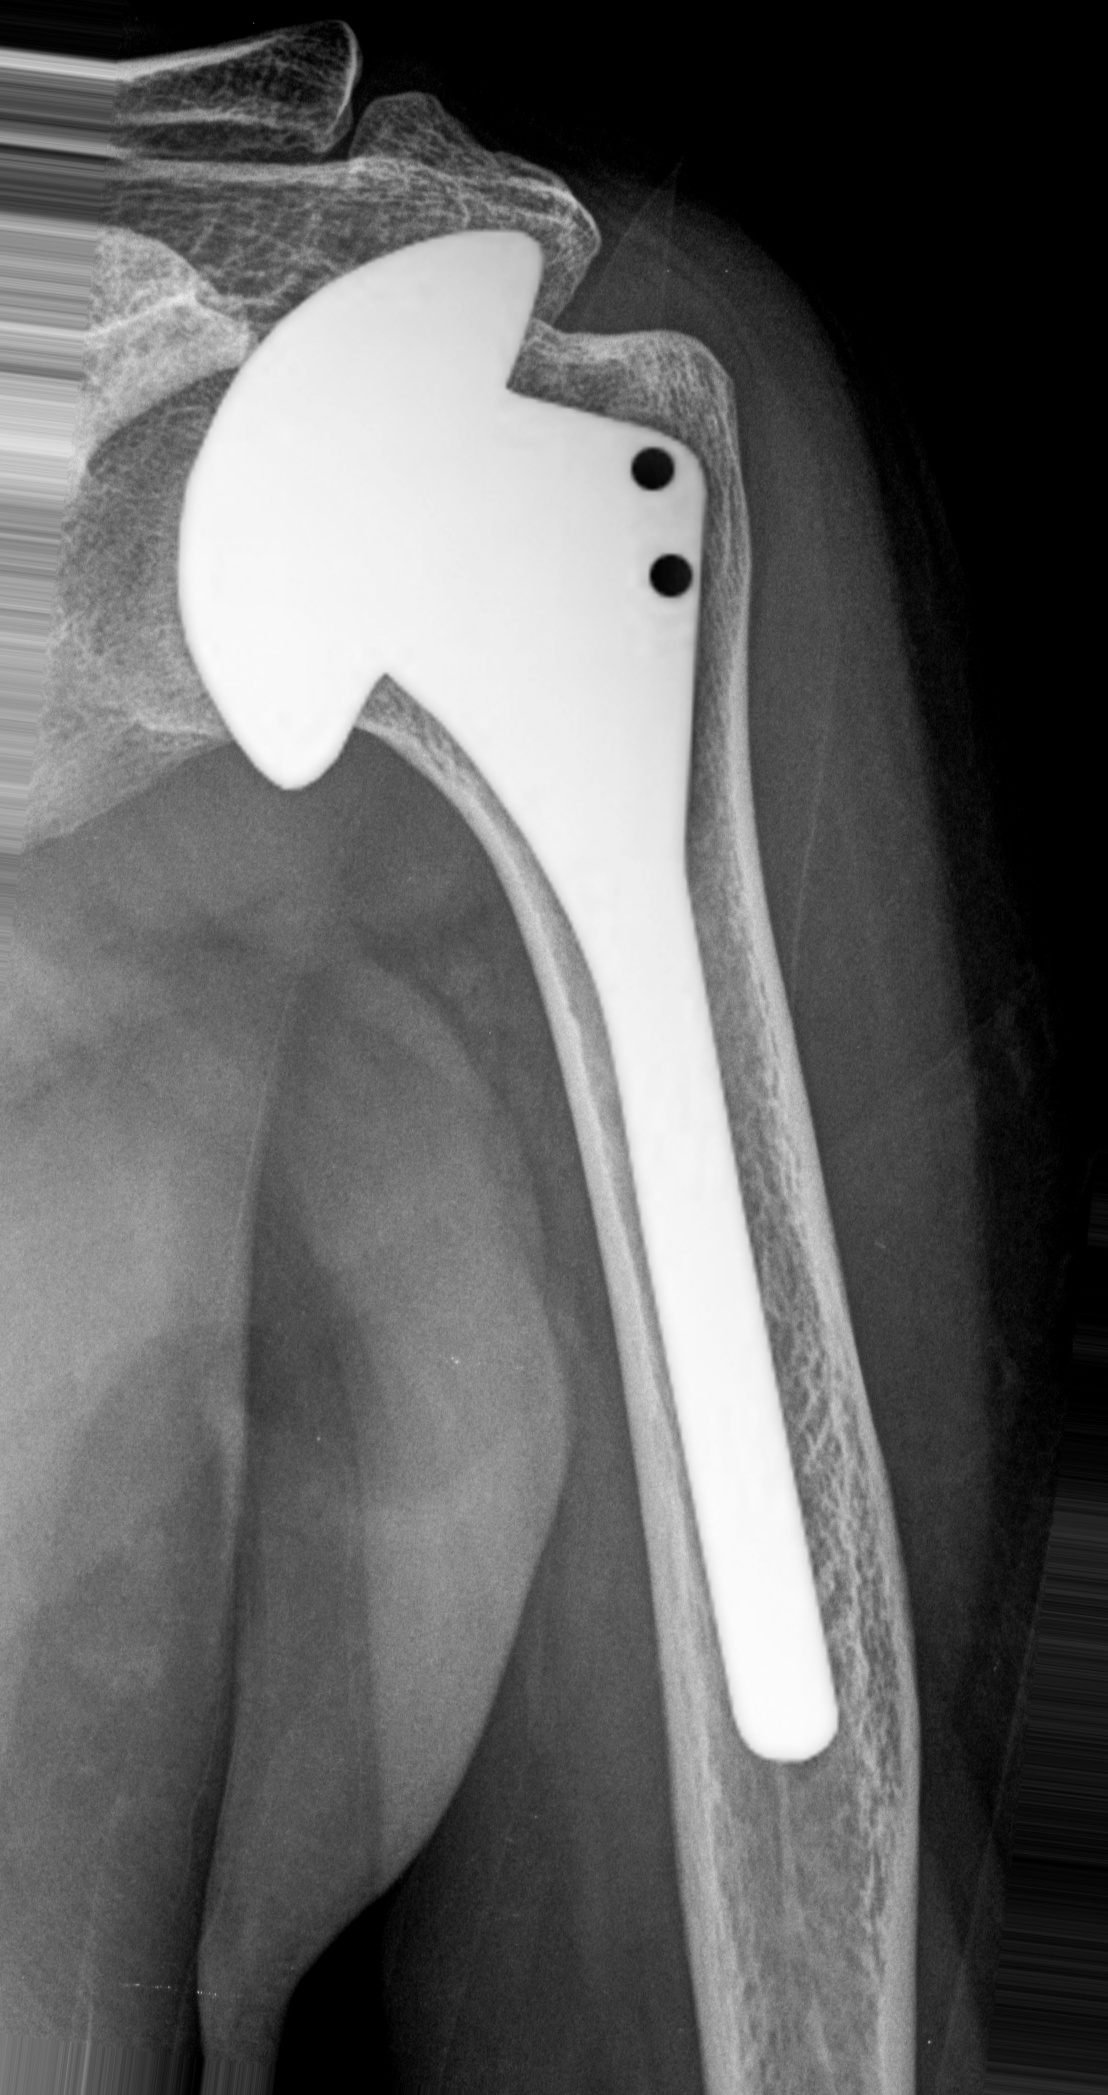Shoulder - Aequalishead - Tornier: (152, 195, 540, 808)
Shoulder - Aequalistail - Tornier: (306, 220, 731, 923)
